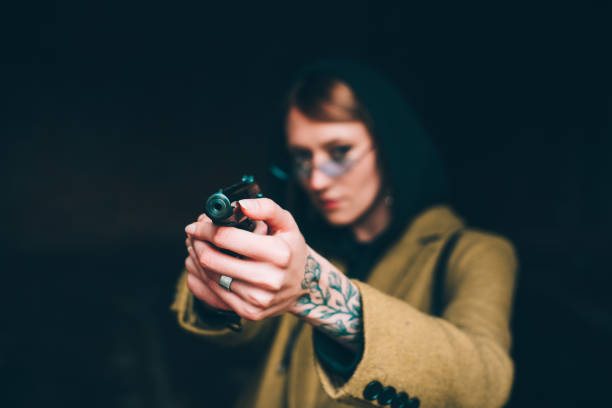gun: (205, 163, 293, 225)
